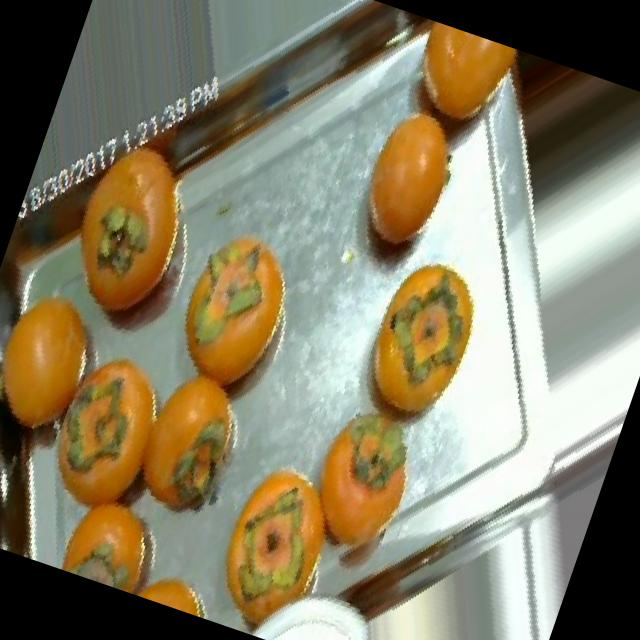Fruit: (19, 118, 233, 376), (138, 196, 328, 429), (183, 426, 370, 640), (314, 74, 492, 290), (107, 347, 270, 546), (0, 259, 129, 471), (123, 551, 233, 624)
